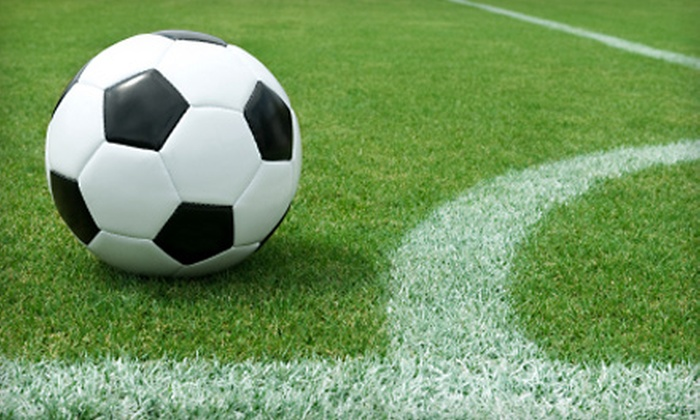football: (43, 30, 301, 278)
